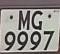7: (41, 28, 56, 53)
9: (2, 29, 17, 53), (16, 29, 31, 53), (28, 29, 43, 53)
G: (31, 10, 46, 31)
M: (16, 10, 32, 32)
